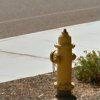Hydrant: (44, 15, 81, 100)
